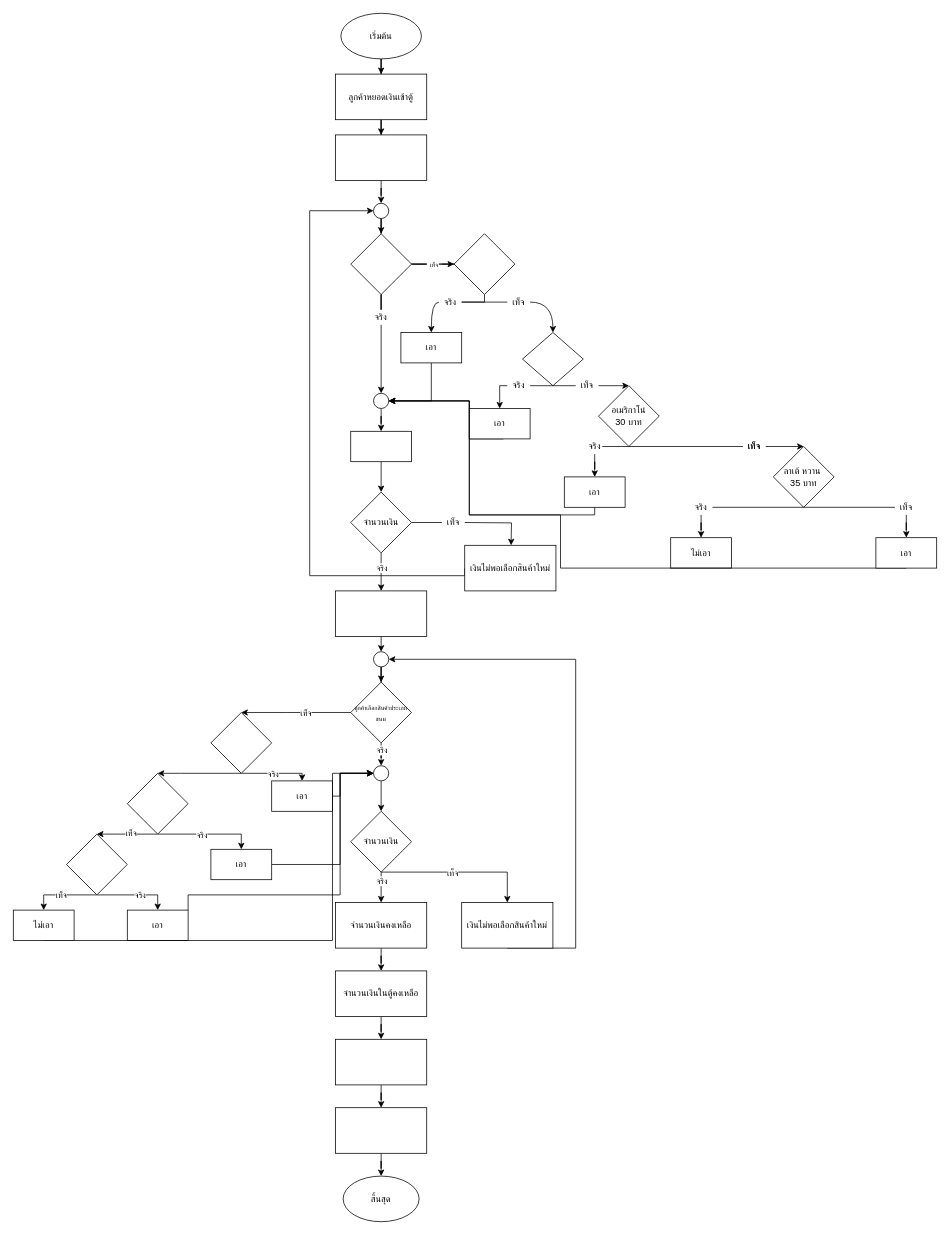
Image size: 950x1235. Some labels were removed from this diagram. Each missing label, with the box of its shape:
จำนวนสินค้าทั้งหมด: (335, 590, 427, 636)
จิ้นส้มหมก 15 บาท: (66, 833, 127, 895)
ถั่วแปบ 20 บาท: (127, 773, 188, 834)
น้ำเขียวกระป๋องละ 12 บาท: (522, 332, 583, 386)
รวมราคาสินค้าทั้งหมด: (350, 431, 412, 462)
ลูกค้าเลือกสินค้าประเภทน้ำ: (350, 233, 412, 294)
สรุปเงินทอนที่ให้ลูกค้า: (335, 1107, 427, 1153)
เมล็ดทานตะวัน 13 บาท: (210, 712, 272, 773)
แสดงรายการสินค้าและยอดรวม: (335, 1039, 427, 1085)
แสดงรายการสินค้าให้เลือก: (335, 134, 427, 180)
โค้กกระป๋องละ 10 บาท: (453, 233, 515, 294)
